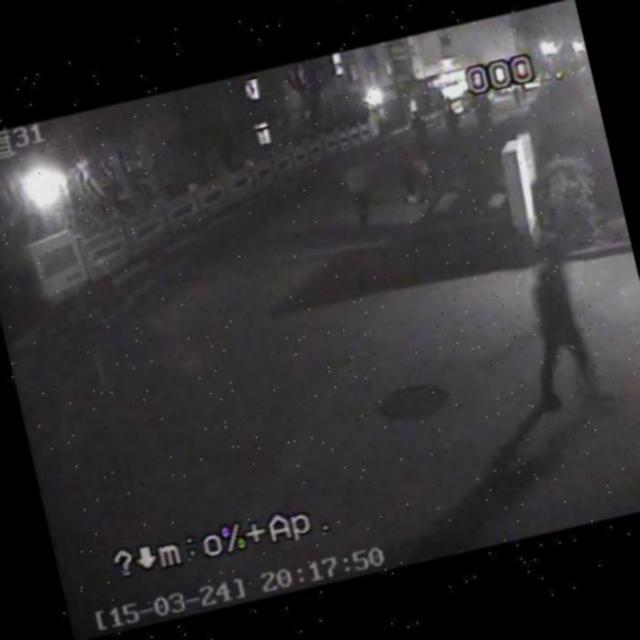person: (500, 225, 626, 425), (334, 150, 382, 230), (383, 146, 422, 213), (407, 132, 443, 196)
